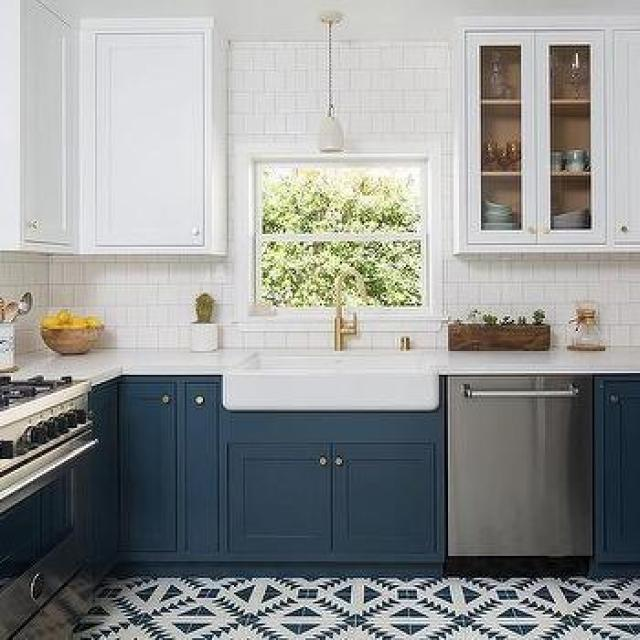dishwasher: (445, 375, 600, 573)
